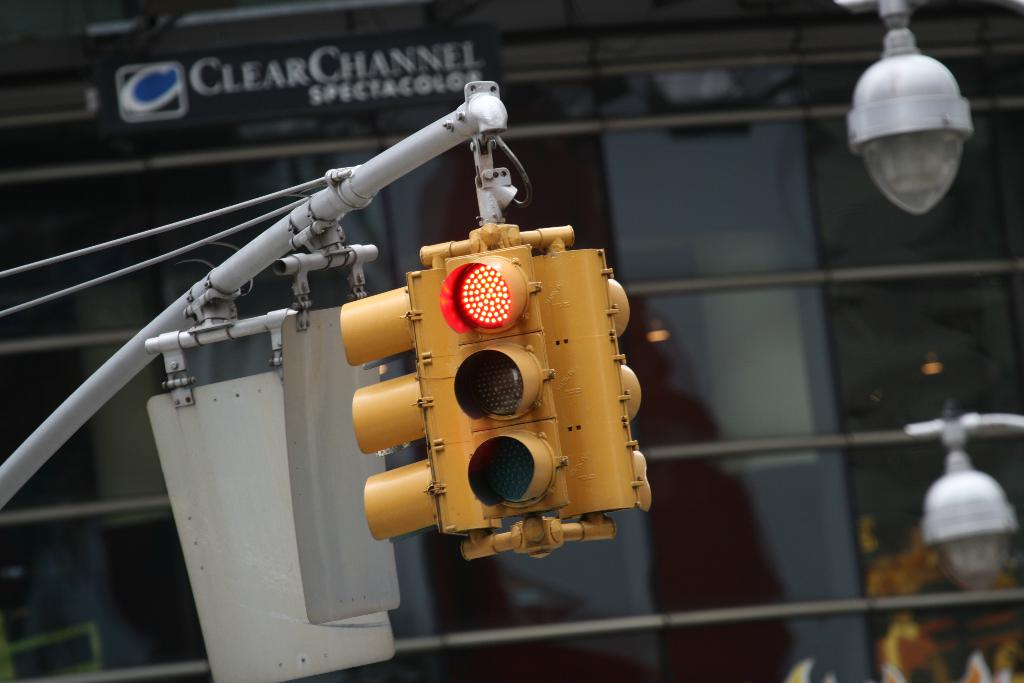red_light: (446, 265, 516, 330)
